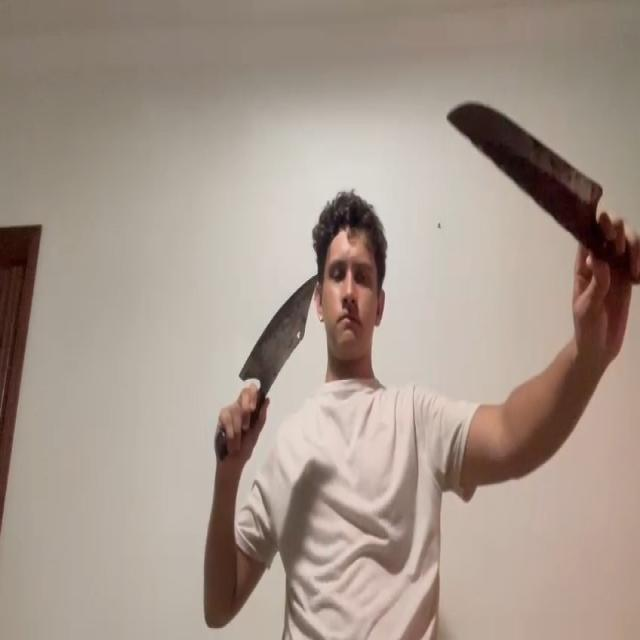knife: (445, 102, 603, 208), (238, 274, 318, 381)
